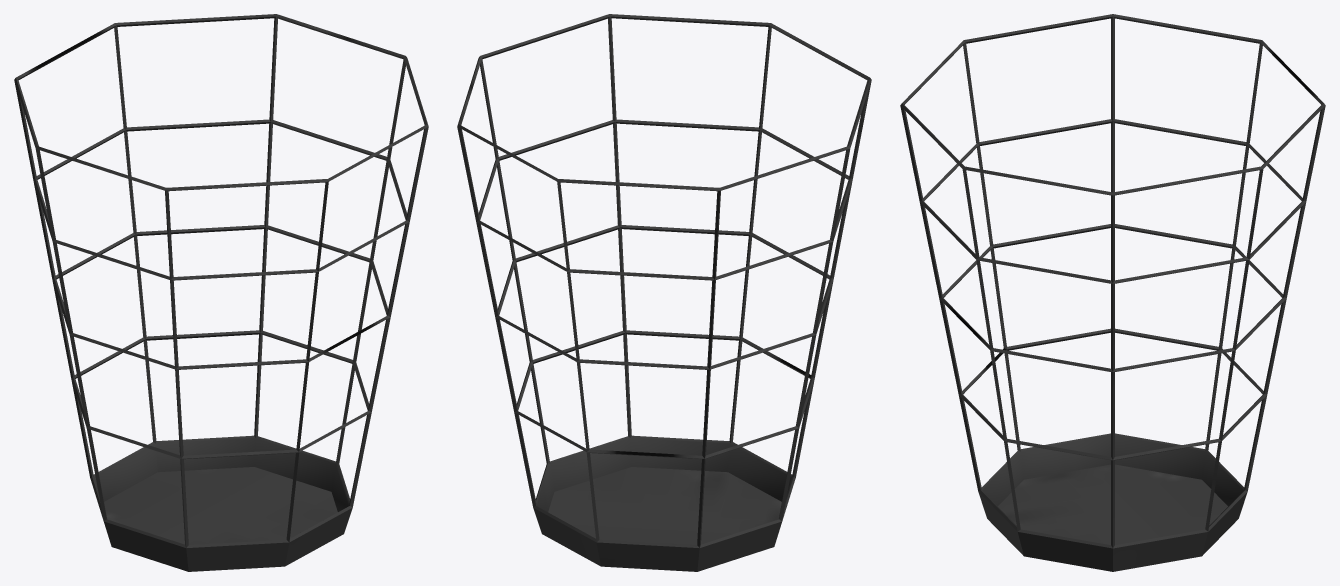
File: bw-bin.lod0.glb
The picture shows the model from 3 angles, left to right: view 1: azimuth 30°, elevation 25°; view 2: azimuth 150°, elevation 25°; view 3: azimuth 270°, elevation 25°; orthographic projection.
Parts seen in each view (by area): view 1: trashcan_texture_2_0; view 2: trashcan_texture_2_0; view 3: trashcan_texture_2_0.
Part boxes in pixels (x1,y1,x2,y2): trashcan_texture_2_0: (14, 14, 428, 571); trashcan_texture_2_0: (457, 14, 871, 571); trashcan_texture_2_0: (900, 14, 1325, 571).
Size of the model in its own units: 0.4639 by 0.5 by 0.4639.
1 material, 1 textured.
